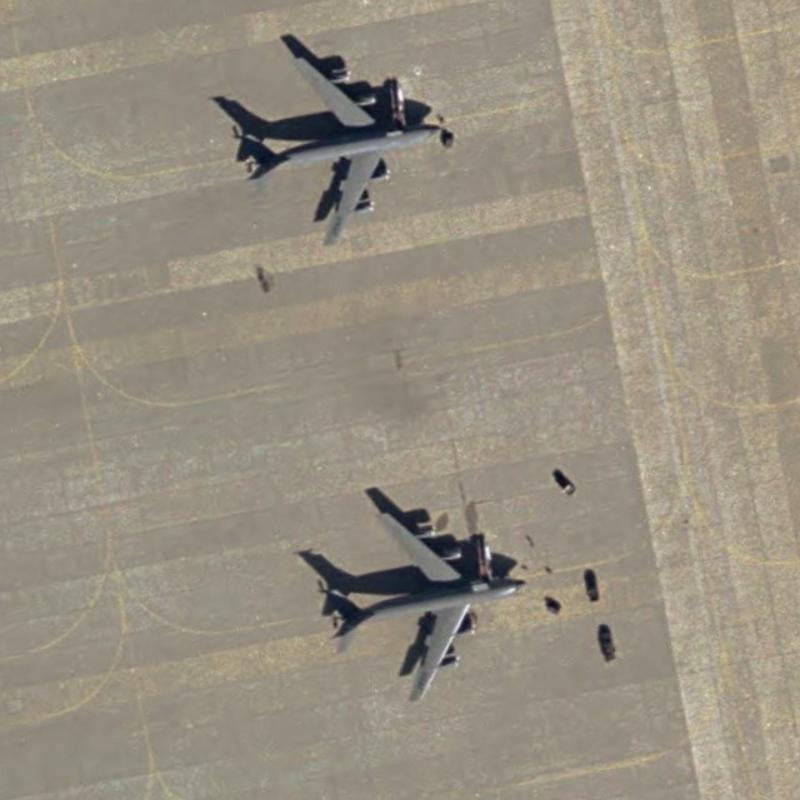A14: (232, 45, 451, 260), (309, 499, 531, 711)
